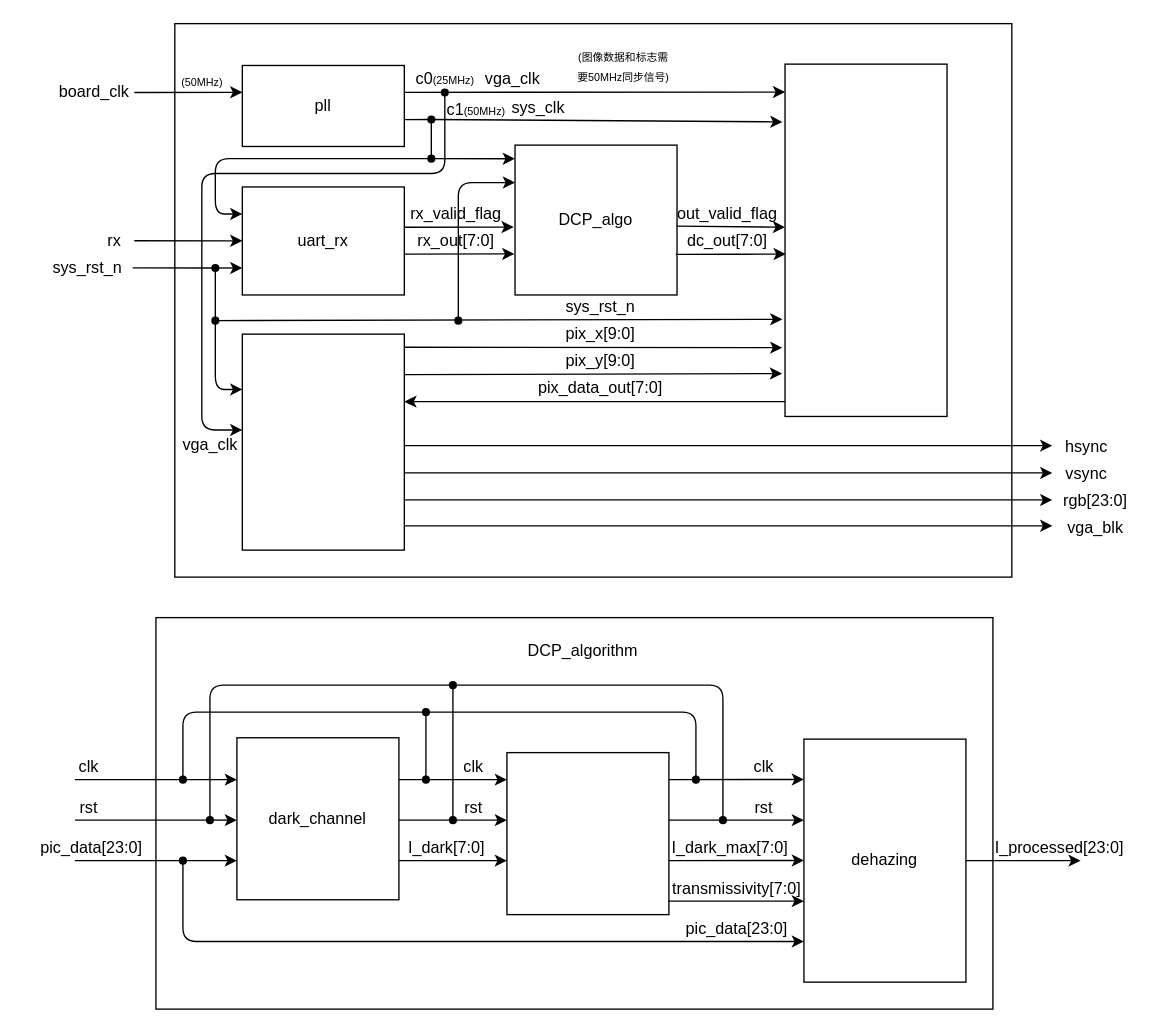
Some shapes in this 1162 by 1033 pixel diagram are drawn without their labels. Each missing label, with the box of its shape:
transmissivity: (506, 751, 669, 915)
vga_ctrl: (241, 333, 404, 550)
vga_pic: (784, 63, 947, 416)
